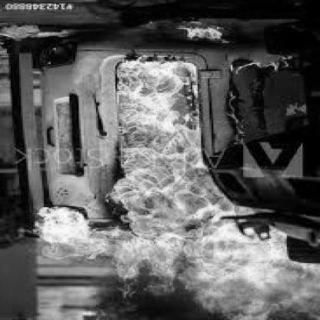Fire: (7, 20, 320, 320)
